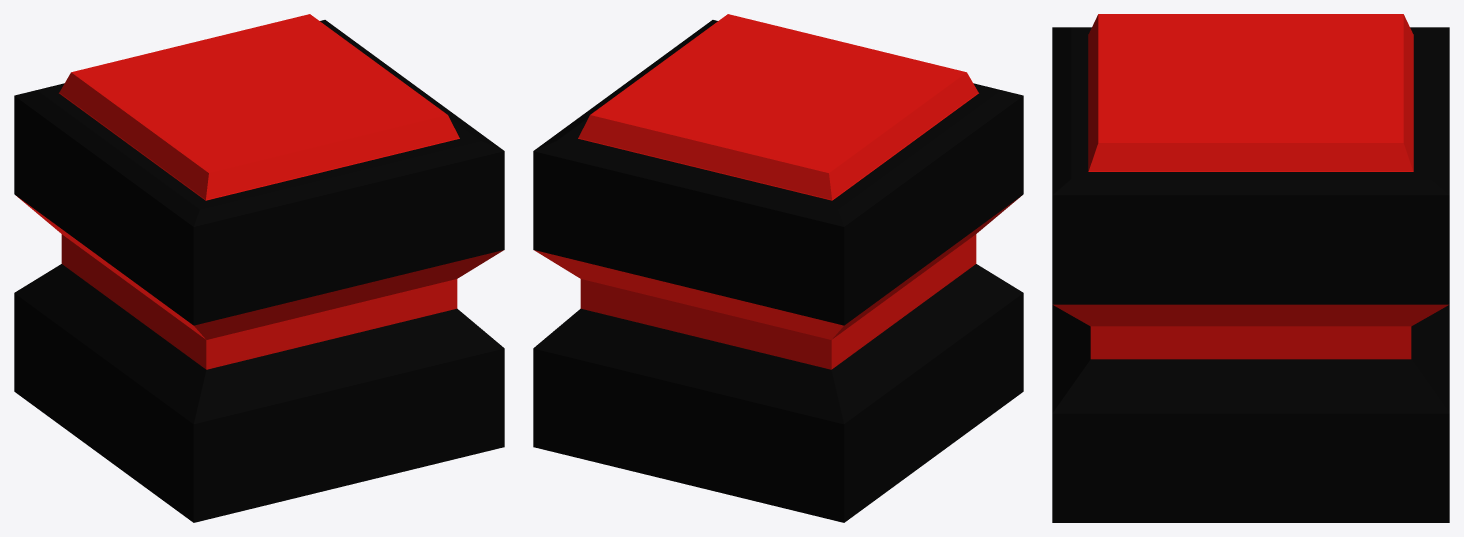
File: RedButton.fbx
3 renders of one model, left to right at view 1: azimuth 30°, elevation 25°; view 2: azimuth 150°, elevation 25°; view 3: azimuth 270°, elevation 25°, orthographic. The views are drawn at different scales.
Visible parts, largest first — view 1: BaseRedButton, RedButton; view 2: BaseRedButton, RedButton; view 3: BaseRedButton, RedButton.
Part boxes in pixels (box(x1,y1,x2,y2)): BaseRedButton: box(14, 20, 504, 522); RedButton: box(59, 14, 459, 200); BaseRedButton: box(533, 20, 1023, 522); RedButton: box(578, 14, 978, 200); BaseRedButton: box(1052, 27, 1449, 522); RedButton: box(1088, 14, 1413, 171).
Bounding box in the file's own units: 107 × 107 × 107.
